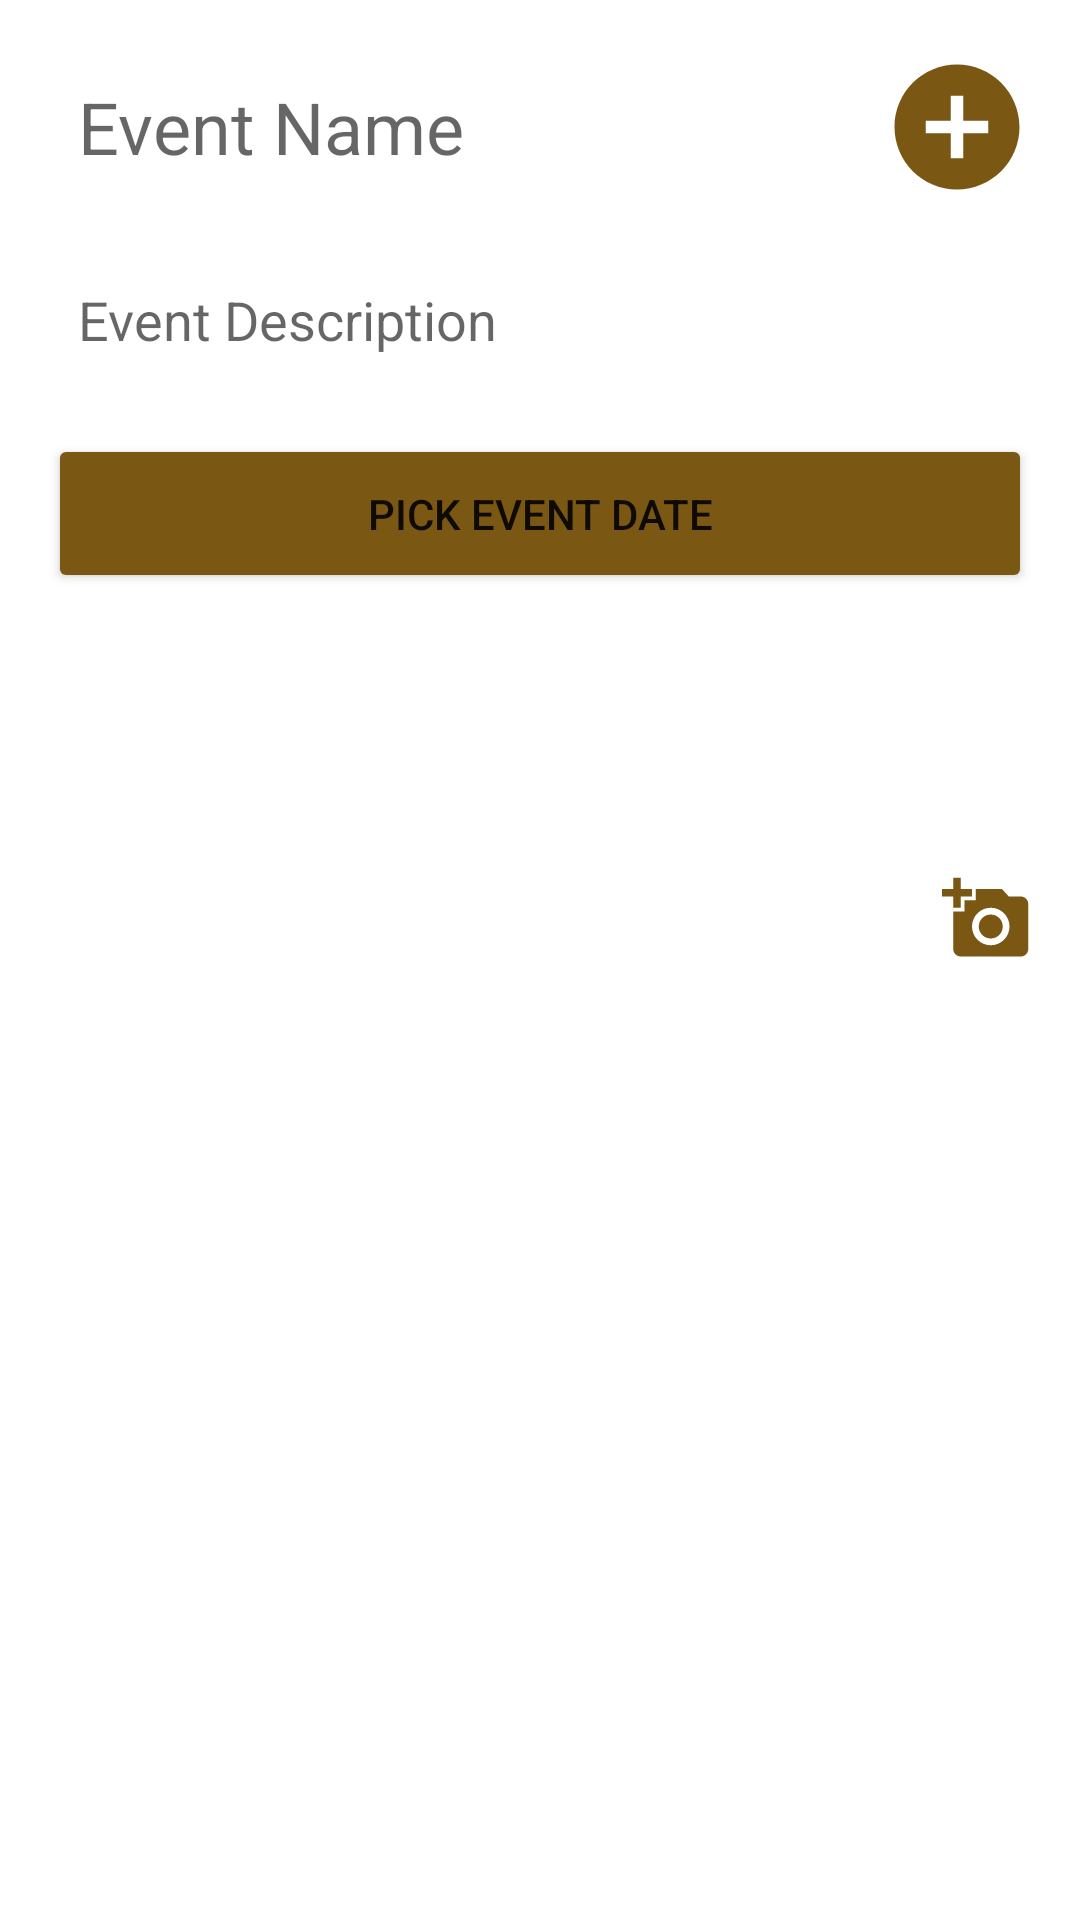

Screen size 1080 × 1920. Icon name, then its box in pixels as (x1, y1, x2, y2):
add circle: (894, 64, 1020, 190)
add photo: (942, 877, 1029, 957)
